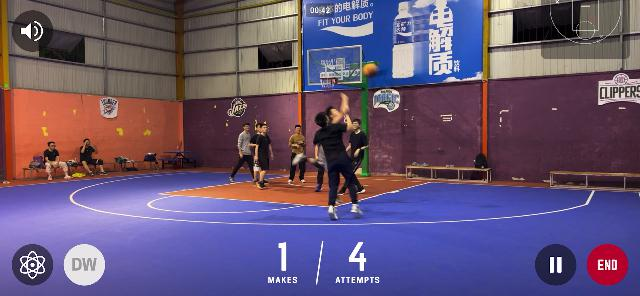ball: (362, 62, 378, 78)
basket: (318, 76, 338, 94)
